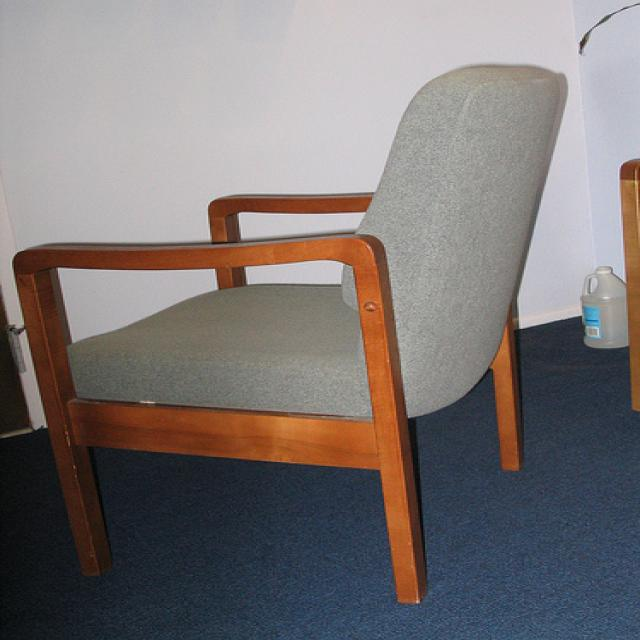chair: (14, 62, 567, 608)
